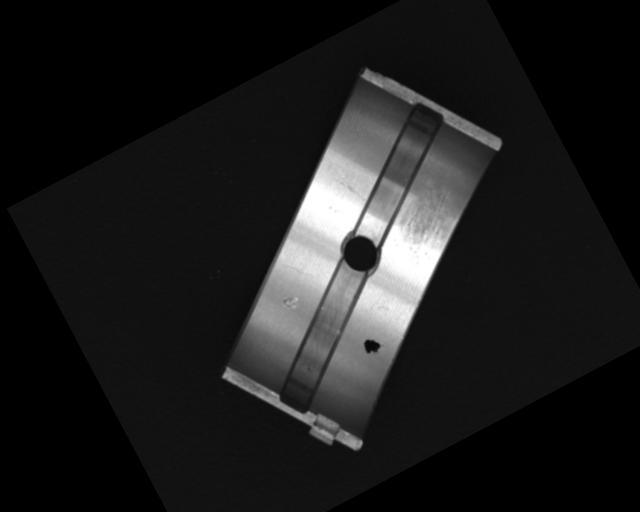blot: (359, 333, 385, 359)
bruise: (278, 291, 302, 314)
gap: (243, 258, 406, 413), (319, 94, 477, 241)
hole: (334, 226, 387, 280)
nick: (332, 165, 366, 211), (284, 255, 316, 287)
scratch: (381, 179, 477, 271)
